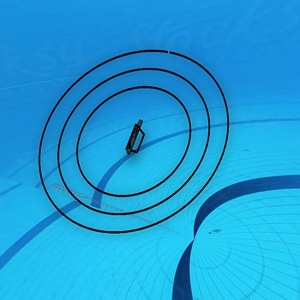circle: (31, 33, 249, 242)
submarine: (124, 121, 146, 154)
